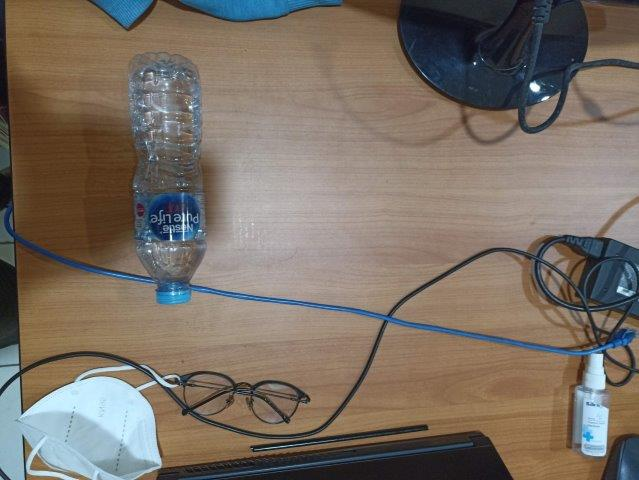botolplastik: (127, 50, 204, 303)
